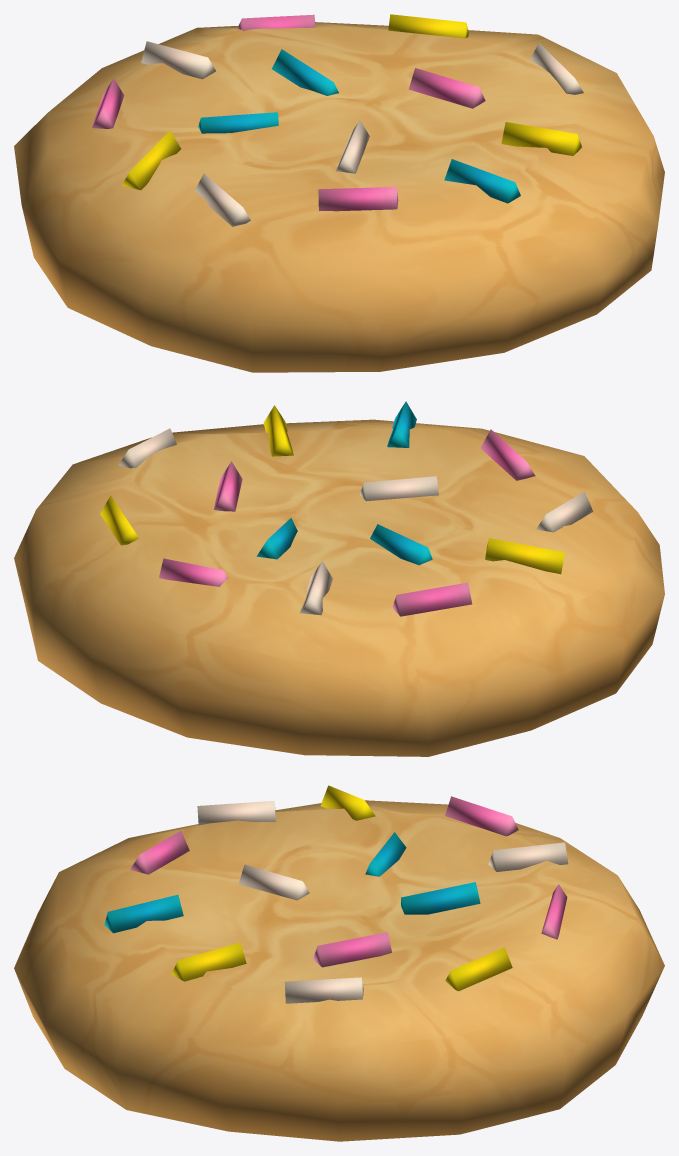
The model's file is cookieSprinkle.gltf.
3 renders of one model, top to bottom at view 1: azimuth 30°, elevation 25°; view 2: azimuth 150°, elevation 25°; view 3: azimuth 270°, elevation 25°, orthographic.
Visible parts, largest first — view 1: Cylinder; view 2: Cylinder; view 3: Cylinder.
Boxes of the visible parts, box(x1,y1,x2,y2) form: Cylinder: box(14, 14, 664, 372); Cylinder: box(14, 401, 664, 756); Cylinder: box(14, 785, 664, 1141).
Size of the model in its own units: 1.42 by 0.3289 by 1.42.
